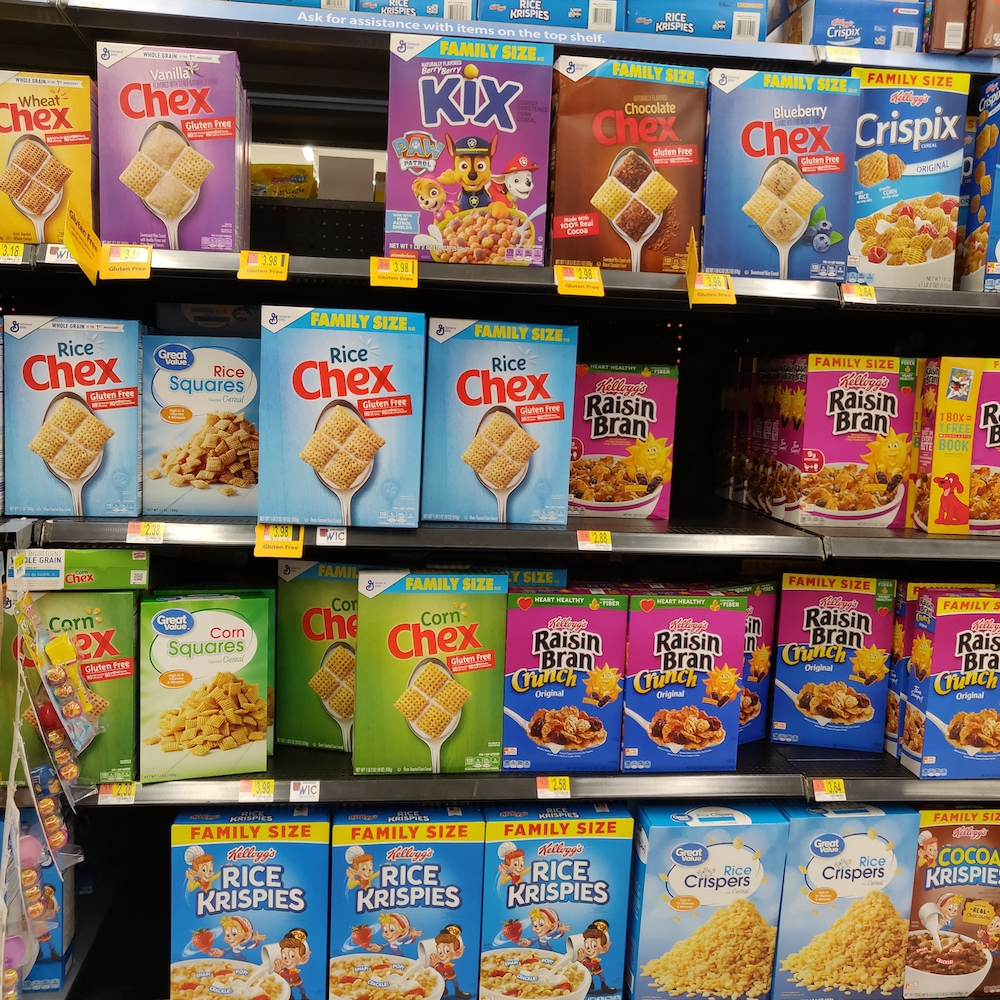Kix Berry -568919964: (381, 55, 557, 263)
